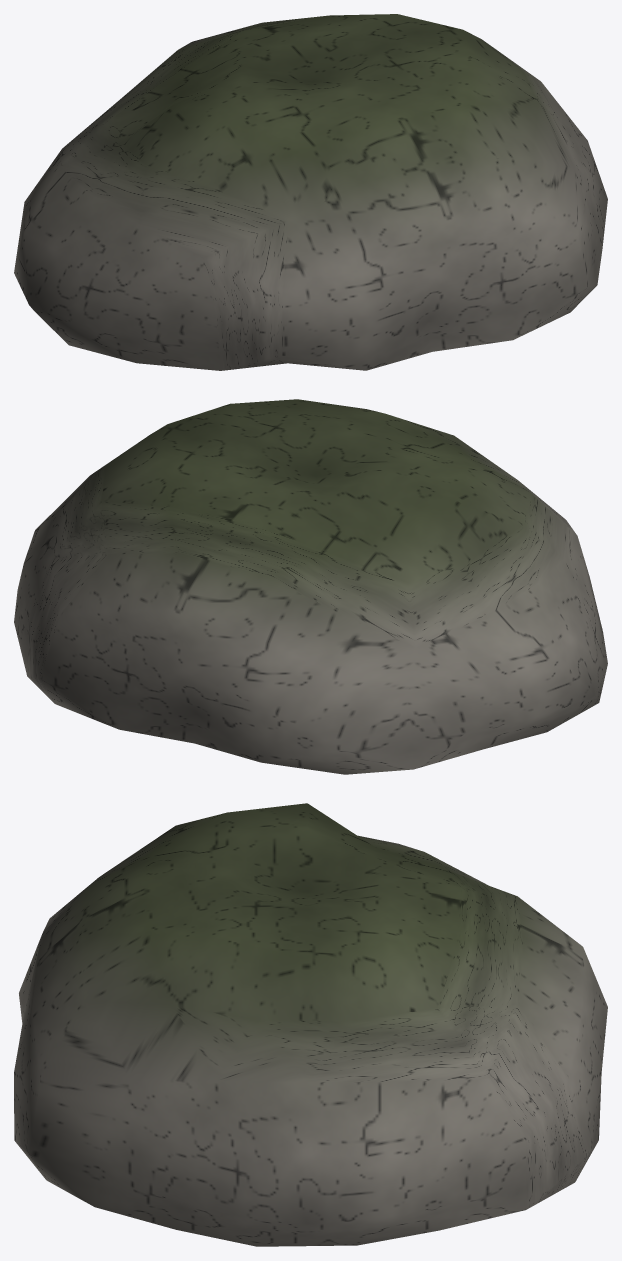
Rendered from rock_a.glb.
The picture shows the model from 3 angles, top to bottom: view 1: azimuth 30°, elevation 25°; view 2: azimuth 150°, elevation 25°; view 3: azimuth 270°, elevation 25°; orthographic projection. The views are drawn at different scales.
Visible parts, largest first — view 1: rock_a; view 2: rock_a; view 3: rock_a.
Part boxes in pixels (x1,y1,x2,y2): rock_a: (14,14,607,370); rock_a: (14,399,607,774); rock_a: (14,803,607,1246).
Bounding box in the file's own units: 1.88 × 0.6416 × 1.5.
1 material, 1 textured.
